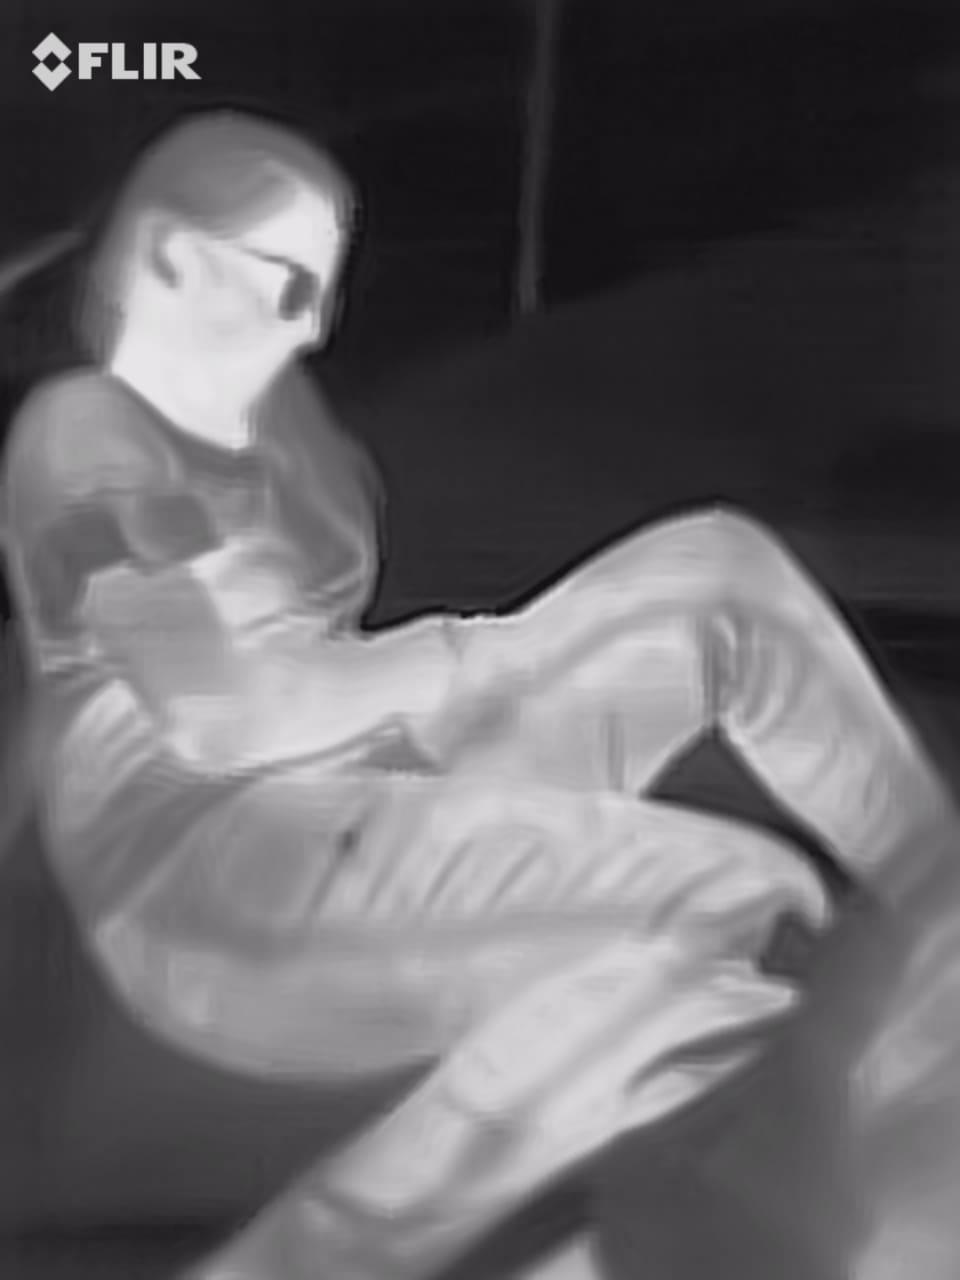head: (83, 104, 352, 433)
